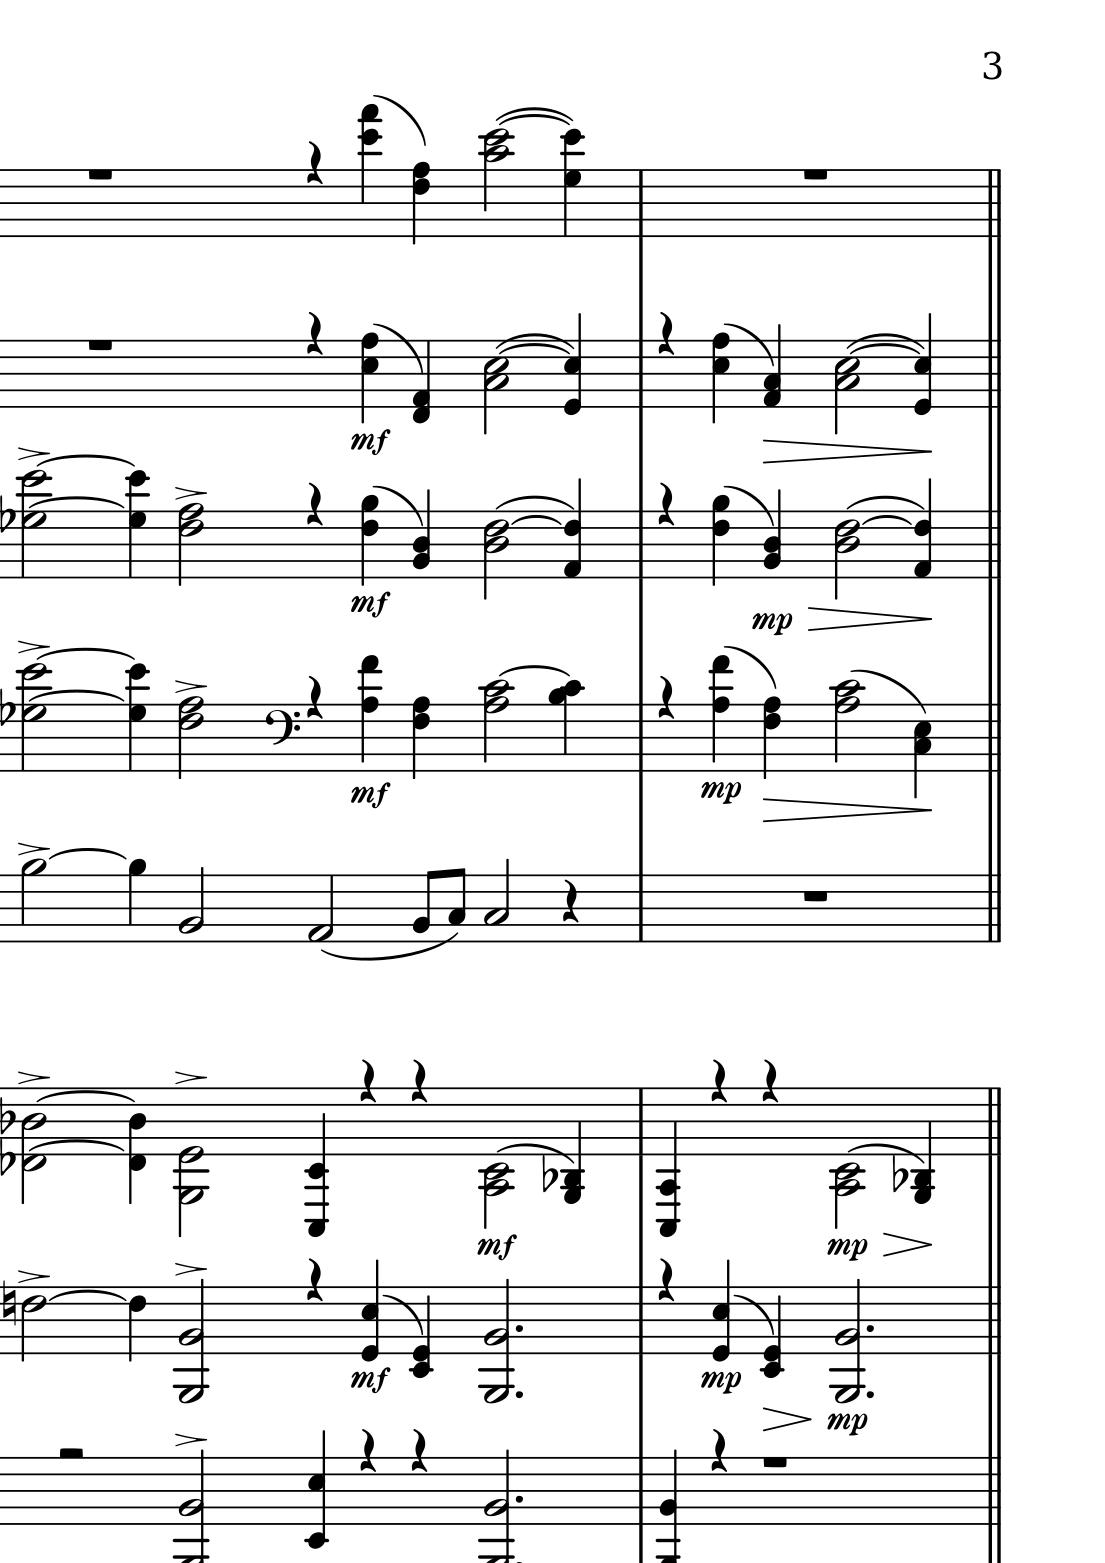2_-1_4: (20, 1086, 49, 1205)
2_-4_-2: (830, 1085, 869, 1231), (477, 1085, 515, 1231)
2_-5_-2: (173, 1278, 210, 1404)
2_-5_0: (173, 1086, 213, 1238)
2_-5_2: (829, 1278, 866, 1405), (480, 1278, 515, 1404)
2_1: (306, 872, 335, 945)
2_10_12: (477, 127, 515, 240)
2_2: (177, 865, 204, 944)
2_3: (482, 856, 511, 944)
2_3_5: (834, 338, 862, 438), (482, 337, 509, 435)
2_4_6: (483, 509, 511, 603)
2_6: (19, 1283, 47, 1362)
2_6_8: (176, 501, 206, 590), (177, 692, 207, 781)
2_7_12: (16, 660, 54, 773), (16, 468, 53, 581)
2_8_10: (478, 678, 512, 774), (830, 677, 863, 773)
2_9: (18, 857, 45, 945)
3: (981, 49, 1002, 83)
4_-1_1: (410, 338, 433, 425)
4_-1_4: (127, 1086, 148, 1202)
4_-2_0: (408, 1286, 435, 1378), (761, 1284, 785, 1378)
4_-2_5: (303, 1429, 331, 1549)
4_-5_-3: (560, 1086, 587, 1205), (911, 1086, 938, 1205)
4_-9_-2: (304, 1086, 329, 1238)
4_-9_-4: (655, 1085, 680, 1238)
4_0_5: (912, 313, 935, 416), (562, 311, 584, 419), (712, 1259, 733, 1362), (361, 1259, 380, 1364)
4_12_15: (358, 102, 384, 238)
4_1_3: (761, 322, 783, 411)
4_1_6: (912, 478, 935, 581), (563, 478, 585, 582)
4_2_4: (763, 488, 783, 581), (413, 488, 432, 582)
4_3_5: (912, 702, 934, 802)
4_4_6: (834, 509, 862, 602)
4_5_8: (709, 330, 732, 425), (360, 331, 381, 425)
4_6: (126, 1284, 147, 1363)
4_6_8: (411, 160, 433, 248), (761, 696, 782, 780), (410, 695, 431, 779)
4_6_9: (710, 493, 732, 586), (359, 492, 379, 590)
4_7_12: (126, 469, 153, 584), (558, 128, 586, 242), (126, 661, 153, 775)
4_8_13: (708, 653, 733, 771), (358, 655, 383, 773)
4_9: (124, 857, 149, 946)
4_9_10: (548, 679, 584, 773)
8_2: (408, 868, 435, 944)
8_3: (447, 867, 466, 945)
Accent_above: (172, 1429, 206, 1449), (16, 444, 48, 464), (172, 483, 204, 503), (172, 1259, 206, 1278), (16, 1266, 49, 1286), (172, 1069, 207, 1087), (172, 677, 204, 696), (16, 1068, 49, 1086), (14, 839, 47, 857), (16, 639, 48, 655)
Diminuendo_hairpin: (763, 796, 935, 823), (807, 606, 932, 631), (761, 1408, 811, 1433)
Double_barline: (981, 341, 1007, 408), (981, 509, 1006, 579), (979, 1288, 1006, 1354), (979, 1458, 1006, 1524), (981, 169, 1006, 237), (981, 704, 1006, 773), (981, 877, 1006, 942)
Fclef: (263, 703, 301, 774)
Fermata_above: (880, 1231, 934, 1257)
Final_barline: (981, 1088, 1006, 1155)
Flat: (541, 1152, 558, 1193), (890, 1152, 908, 1193), (2, 1088, 16, 1144), (1, 488, 16, 535), (1, 682, 16, 728), (2, 1136, 16, 1179)
Natural: (1, 1280, 17, 1329)
Rests1: (83, 334, 117, 354), (83, 165, 117, 183), (799, 886, 831, 905), (798, 165, 831, 183), (759, 1452, 790, 1471)
Rests2: (54, 1442, 87, 1464)
Rests4: (557, 877, 584, 927), (405, 1056, 429, 1105), (358, 1057, 380, 1106), (709, 1057, 731, 1105), (758, 1056, 780, 1104), (356, 1427, 378, 1475), (408, 1427, 429, 1475), (304, 311, 325, 358), (654, 674, 676, 721), (655, 310, 676, 358), (304, 481, 324, 527), (708, 1428, 728, 1473), (655, 481, 674, 527), (305, 1257, 324, 1303), (657, 1257, 676, 1303), (305, 674, 324, 720), (305, 140, 323, 187)
Single_barline: (630, 1457, 653, 1525), (630, 1287, 652, 1353), (630, 170, 651, 236), (631, 340, 651, 407), (631, 511, 651, 578), (631, 704, 651, 771), (631, 875, 651, 942), (631, 1088, 651, 1155)
Slur: (322, 932, 460, 961), (851, 668, 927, 712), (371, 93, 428, 144), (373, 320, 425, 373), (722, 645, 779, 688), (725, 320, 775, 366), (374, 484, 425, 529), (724, 484, 776, 526), (381, 1290, 425, 1335), (732, 1292, 775, 1335), (848, 1142, 924, 1166), (497, 1142, 572, 1164), (35, 647, 140, 661), (28, 495, 126, 509), (29, 1138, 123, 1153), (35, 454, 138, 468), (496, 331, 576, 348), (845, 496, 928, 512), (35, 1089, 132, 1103), (28, 688, 123, 701), (492, 495, 572, 511), (845, 331, 924, 347), (494, 106, 582, 120), (47, 847, 127, 861), (494, 665, 570, 679), (850, 343, 923, 358), (857, 512, 916, 529), (507, 512, 564, 529), (48, 1289, 124, 1301), (497, 343, 570, 355), (497, 115, 575, 126)
dot: (512, 1320, 526, 1337), (863, 1321, 877, 1336), (512, 1492, 525, 1507), (513, 1388, 525, 1402), (863, 1388, 875, 1402)
mf: (347, 779, 392, 814), (348, 426, 391, 459), (348, 1364, 391, 1397), (348, 590, 392, 621), (475, 1232, 518, 1262)
mp: (697, 779, 743, 808), (750, 609, 794, 639), (698, 1367, 741, 1396), (826, 1410, 869, 1437), (825, 1237, 869, 1263)
